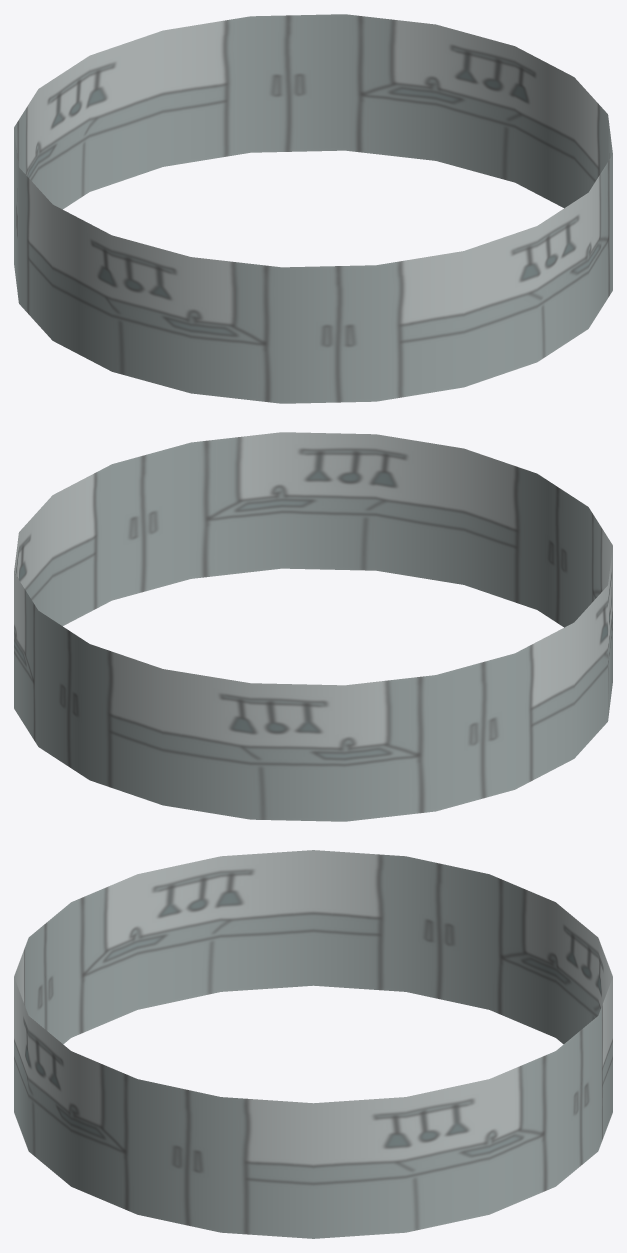
The model's file is BackGround.fbx.
3 views of the same model, one above another, from view 1: azimuth 30°, elevation 25°; view 2: azimuth 150°, elevation 25°; view 3: azimuth 270°, elevation 25° (orthographic).
Parts seen in each view (by area): view 1: BackGround; view 2: BackGround; view 3: BackGround.
Boxes of the visible parts, box(x1,y1,x2,y2) form: BackGround: box(14, 14, 612, 403); BackGround: box(14, 432, 612, 821); BackGround: box(14, 850, 612, 1238).
Bounding box in the file's own units: 2160 × 540 × 2160.
Materials: 1 (1 with a texture image).
